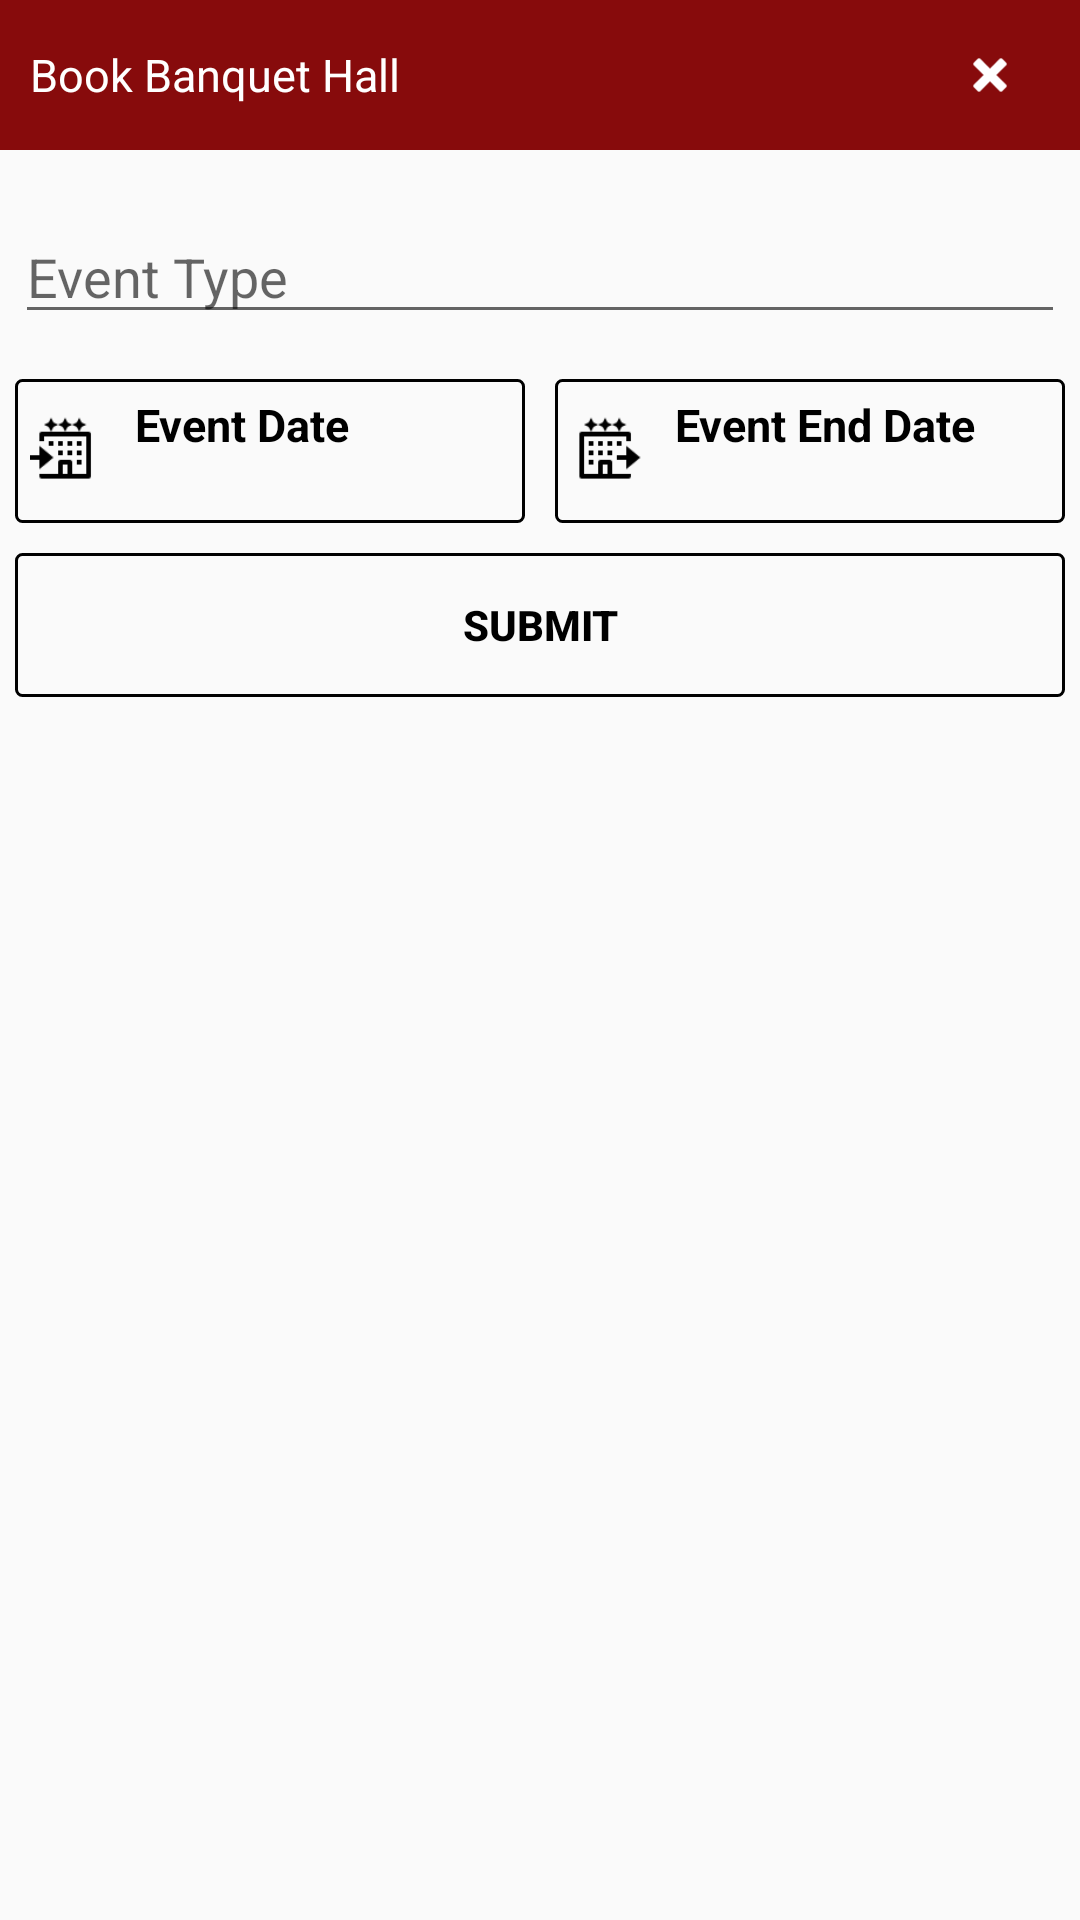

Where icons sit on this 1080px×1920px app screen, as [x1=x1, y1=y1, x2=x2, y2=y2]:
checkin: [x1=30, y1=418, x2=91, y2=479]
checkout: [x1=579, y1=418, x2=641, y2=479]
close: [x1=973, y1=58, x2=1007, y2=92]
